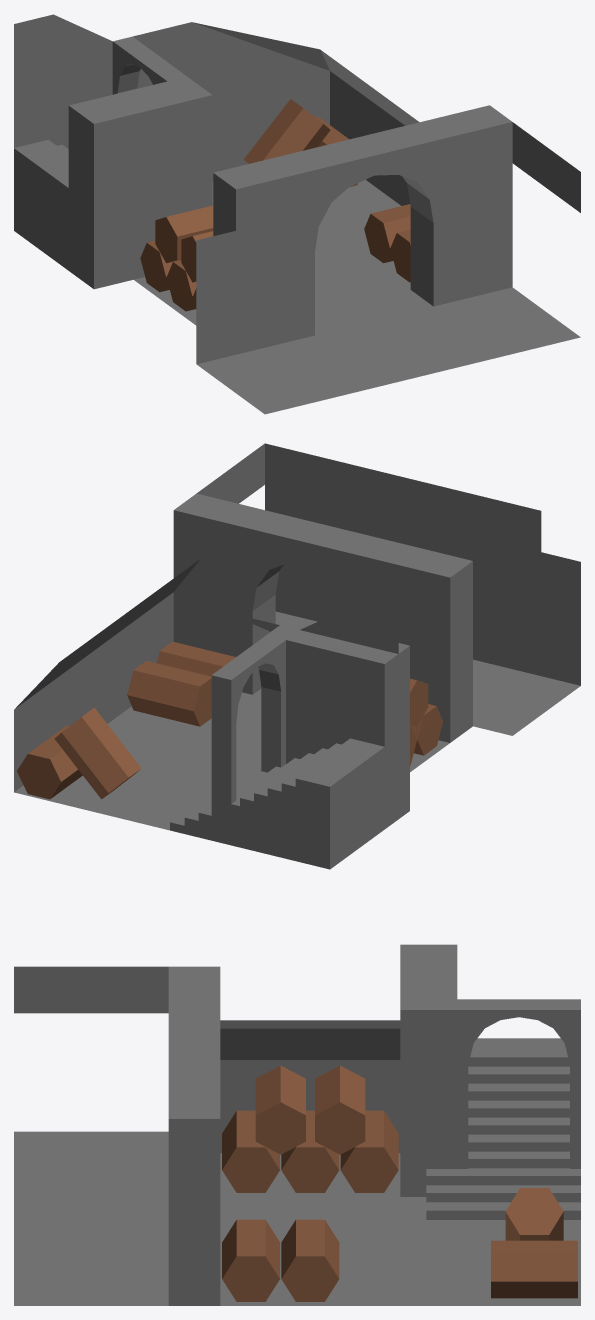
File: storage_room.gltf
3 renders of one model, top to bottom at view 1: azimuth 30°, elevation 25°; view 2: azimuth 150°, elevation 25°; view 3: azimuth 270°, elevation 25°, orthographic. The views are drawn at different scales.
Parts seen in each view (by area): view 1: Walls, ArchBig, SeparatingWall, Stairs, Barrel.008, ArchSmall, Barrel.004, Barrel.006, Barrel.002, Barrel.001, Barrel.005, Barrel.003; view 2: Walls, ArchBig, Stairs, SeparatingWall, ArchSmall, Barrel.006, Barrel.008, Barrel.007, Barrel.005, Barrel, Barrel.003; view 3: Walls, Stairs, ArchBig, SeparatingWall, ArchSmall, Barrel.007, Barrel.006, Barrel.005, Barrel.004, Barrel.003, Barrel.002, Barrel (+2 smaller).
Part boxes in pixels (x1=…): Walls: x1=14, y1=14, x2=580, y2=414; ArchBig: x1=213, y1=105, x2=512, y2=354; SeparatingWall: x1=68, y1=76, x2=212, y2=289; Stairs: x1=14, y1=139, x2=82, y2=280; Barrel.008: x1=243, y1=99, x2=330, y2=163; ArchSmall: x1=112, y1=36, x2=186, y2=94; Barrel.004: x1=155, y1=205, x2=213, y2=263; Barrel.006: x1=364, y1=204, x2=410, y2=263; Barrel.002: x1=140, y1=240, x2=172, y2=292; Barrel.001: x1=166, y1=260, x2=196, y2=311; Barrel.005: x1=390, y1=229, x2=410, y2=282; Barrel.003: x1=181, y1=231, x2=213, y2=282; Walls: x1=14, y1=443, x2=580, y2=830; ArchBig: x1=173, y1=493, x2=472, y2=742; Stairs: x1=170, y1=737, x2=398, y2=869; SeparatingWall: x1=266, y1=616, x2=409, y2=829; ArchSmall: x1=211, y1=635, x2=285, y2=845; Barrel.006: x1=127, y1=661, x2=211, y2=726; Barrel.008: x1=54, y1=707, x2=141, y2=799; Barrel.007: x1=17, y1=725, x2=82, y2=799; Barrel.005: x1=156, y1=641, x2=235, y2=676; Barrel: x1=410, y1=704, x2=442, y2=755; Barrel.003: x1=410, y1=678, x2=428, y2=726; Walls: x1=14, y1=966, x2=580, y2=1305; Stairs: x1=426, y1=1038, x2=580, y2=1219; ArchBig: x1=168, y1=966, x2=220, y2=1305; SeparatingWall: x1=400, y1=944, x2=457, y2=1196; ArchSmall: x1=457, y1=999, x2=580, y2=1168; Barrel.007: x1=491, y1=1240, x2=577, y2=1298; Barrel.006: x1=281, y1=1219, x2=339, y2=1301; Barrel.005: x1=222, y1=1219, x2=279, y2=1301; Barrel.004: x1=315, y1=1065, x2=365, y2=1154; Barrel.003: x1=255, y1=1065, x2=305, y2=1154; Barrel.002: x1=340, y1=1110, x2=398, y2=1192; Barrel: x1=222, y1=1110, x2=279, y2=1192.
Bounding box in the file's own units: 8 × 5 × 11.
